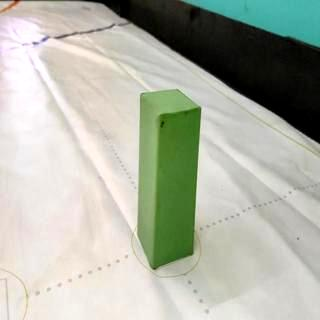greenbox: (136, 87, 200, 271)
